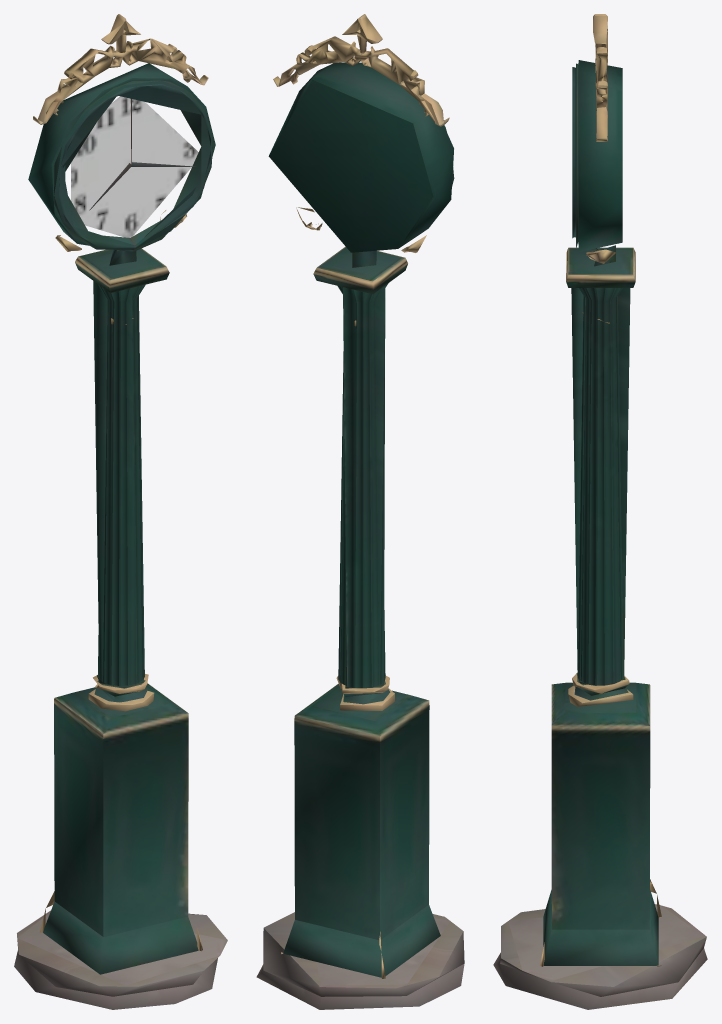
Rendered from Clock.glb.
3 renders of one model, left to right at view 1: azimuth 30°, elevation 25°; view 2: azimuth 150°, elevation 25°; view 3: azimuth 270°, elevation 25°, orthographic.
Parts seen in each view (by area): view 1: 3d66-Editable_Poly-21536706-006; view 2: 3d66-Editable_Poly-21536706-006; view 3: 3d66-Editable_Poly-21536706-006.
Part boxes in pixels (x1,y1,x2,y2): 3d66-Editable_Poly-21536706-006: (14,14,227,1009); 3d66-Editable_Poly-21536706-006: (256,14,464,1009); 3d66-Editable_Poly-21536706-006: (493,14,707,1009).
Size of the model in its own units: 0.287 by 1.41 by 0.288.
1 material, 1 textured.
